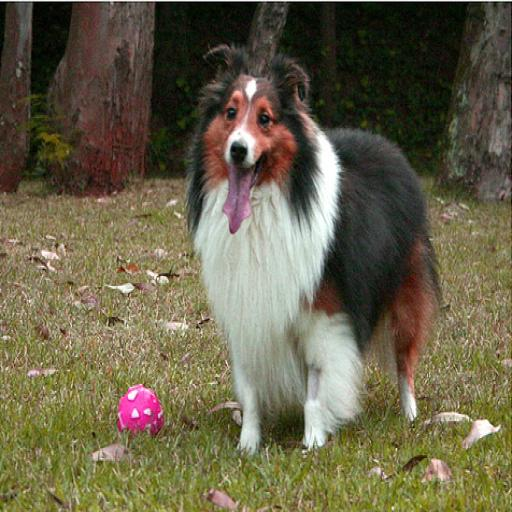dog_face: (196, 46, 310, 227)
